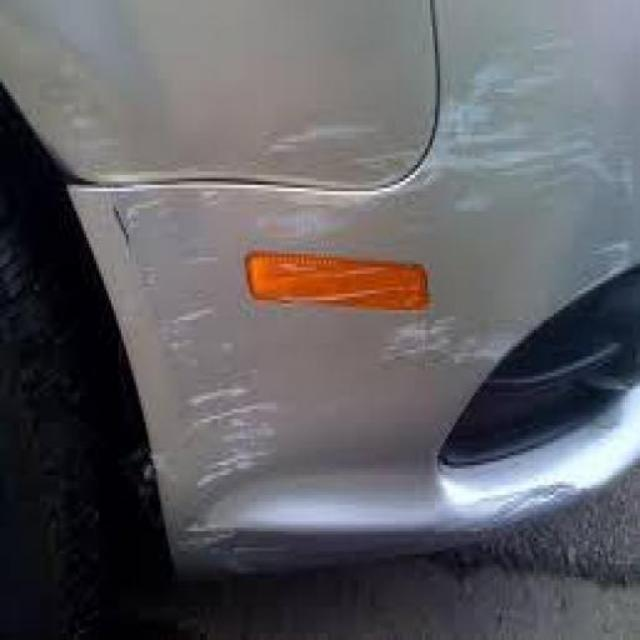rub: (52, 35, 635, 561)
